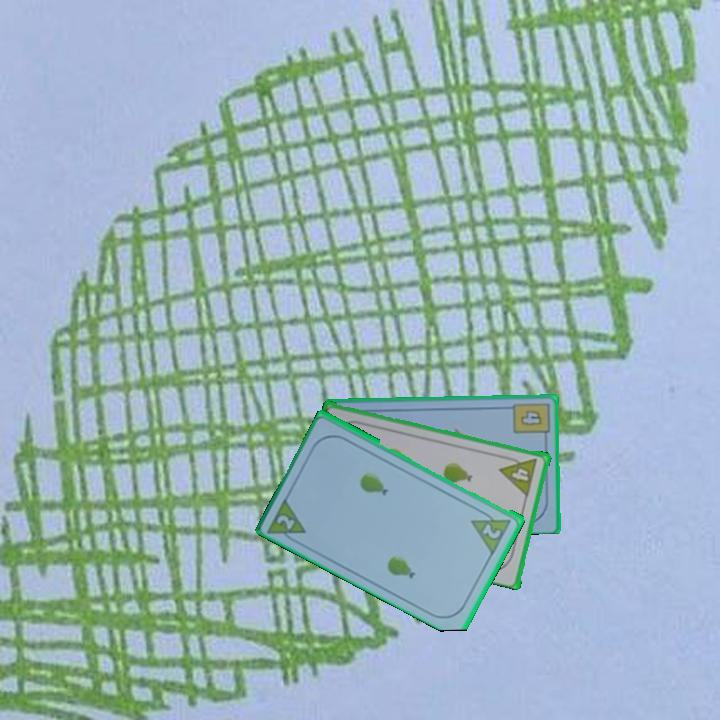2p: (479, 520, 504, 542), (273, 511, 298, 533)
4b: (510, 399, 552, 442)
4p: (497, 452, 540, 498)
